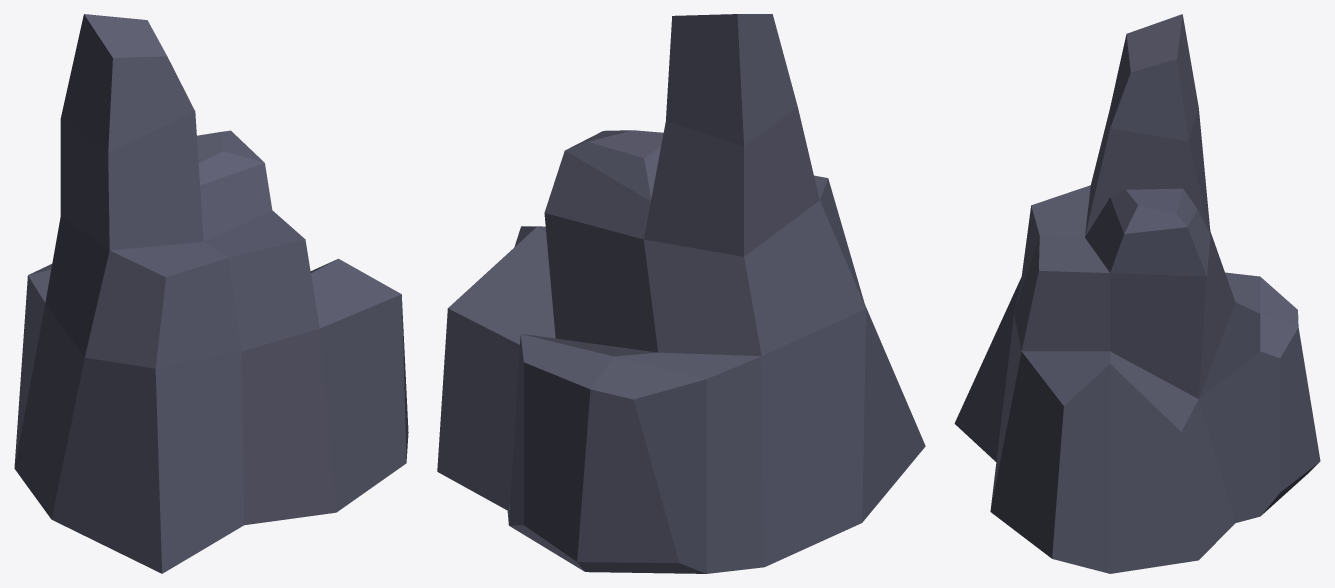
Rendered from Rock8.fbx.
3 views of the same model, side by side, from view 1: azimuth 30°, elevation 25°; view 2: azimuth 150°, elevation 25°; view 3: azimuth 270°, elevation 25° (orthographic). The views are drawn at different scales.
Visible parts, largest first — view 1: Cube.386; view 2: Cube.386; view 3: Cube.386.
Boxes of the visible parts, x1=… form: Cube.386: x1=14, y1=14, x2=408, y2=573; Cube.386: x1=437, y1=14, x2=925, y2=573; Cube.386: x1=954, y1=14, x2=1320, y2=573.
Size of the model in its own units: 5889 by 7249 by 5597.
